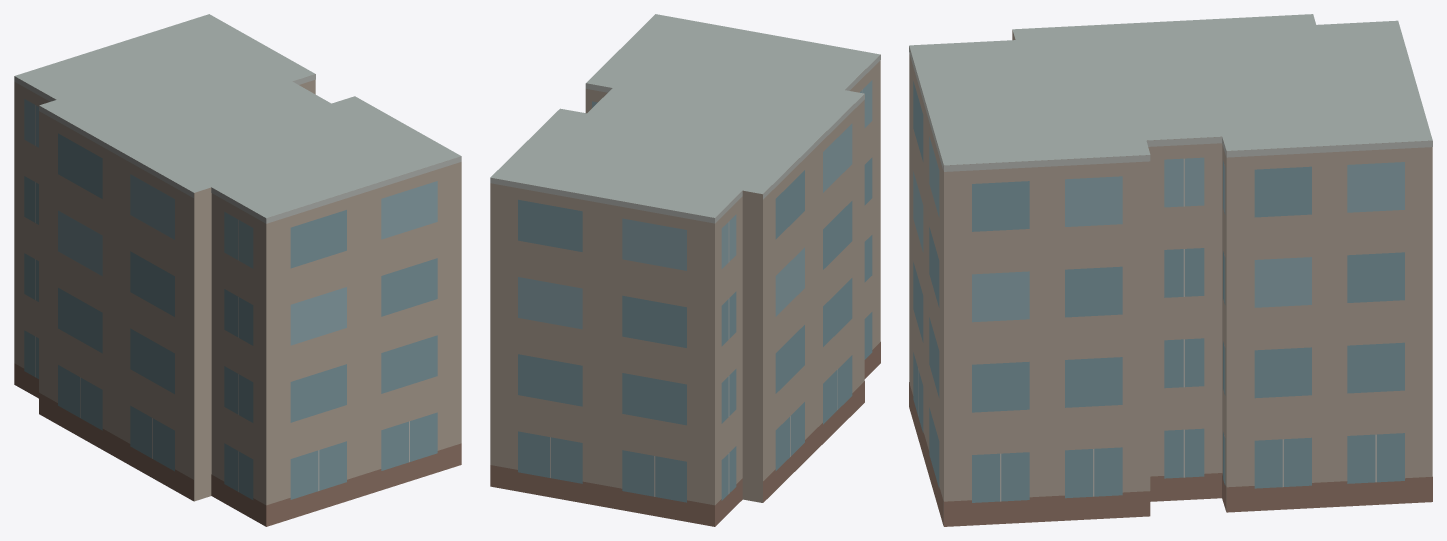
The model's file is survey-upis-32621068.glb.
3 views of the same model, side by side, from view 1: azimuth 30°, elevation 25°; view 2: azimuth 150°, elevation 25°; view 3: azimuth 270°, elevation 25° (orthographic). The views are drawn at different scales.
Visible parts, largest first — view 1: survey-upis-32621068.tmp; view 2: survey-upis-32621068.tmp; view 3: survey-upis-32621068.tmp.
Part boxes in pixels (<box>): survey-upis-32621068.tmp: <box>14,14,461,526</box>; survey-upis-32621068.tmp: <box>490,14,880,526</box>; survey-upis-32621068.tmp: <box>909,14,1432,526</box>.
Size of the model in its own units: 12.14 by 13.5 by 17.74.
